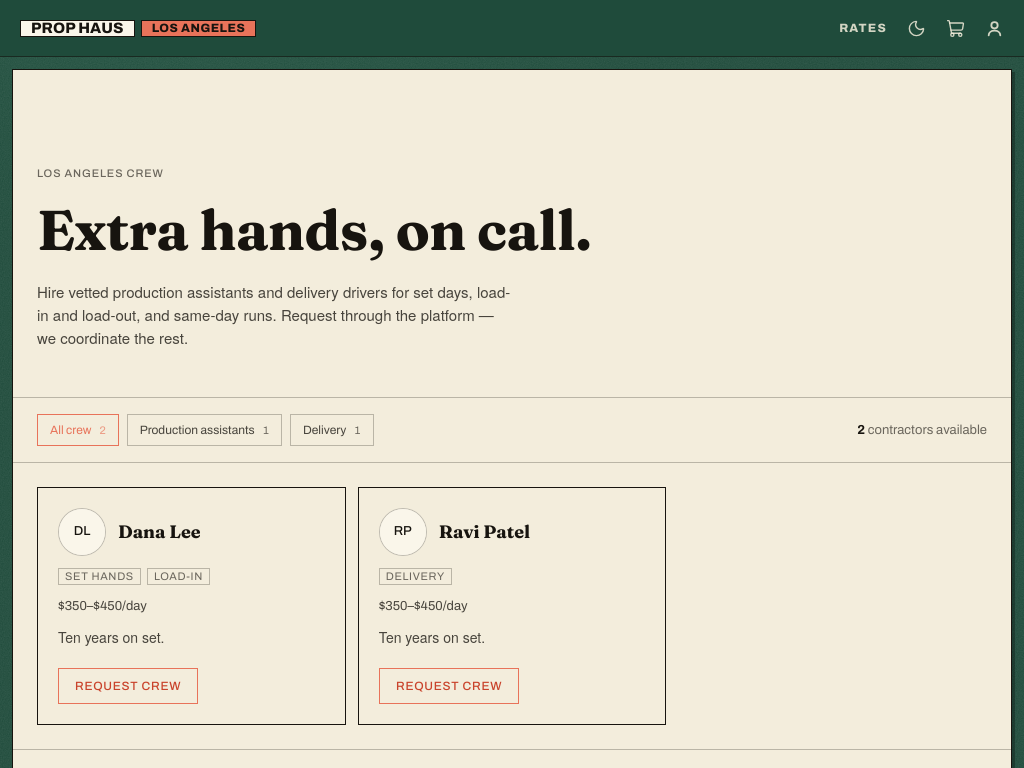
Test: CrewPage › offers the signed-in org’s projects in the request form
Expected: the text "Los Angeles crew" is shown, [37,167,164,179]
Click the button "Request crew" below "Set hands". click: (128,686)
box: [58,668,198,704]
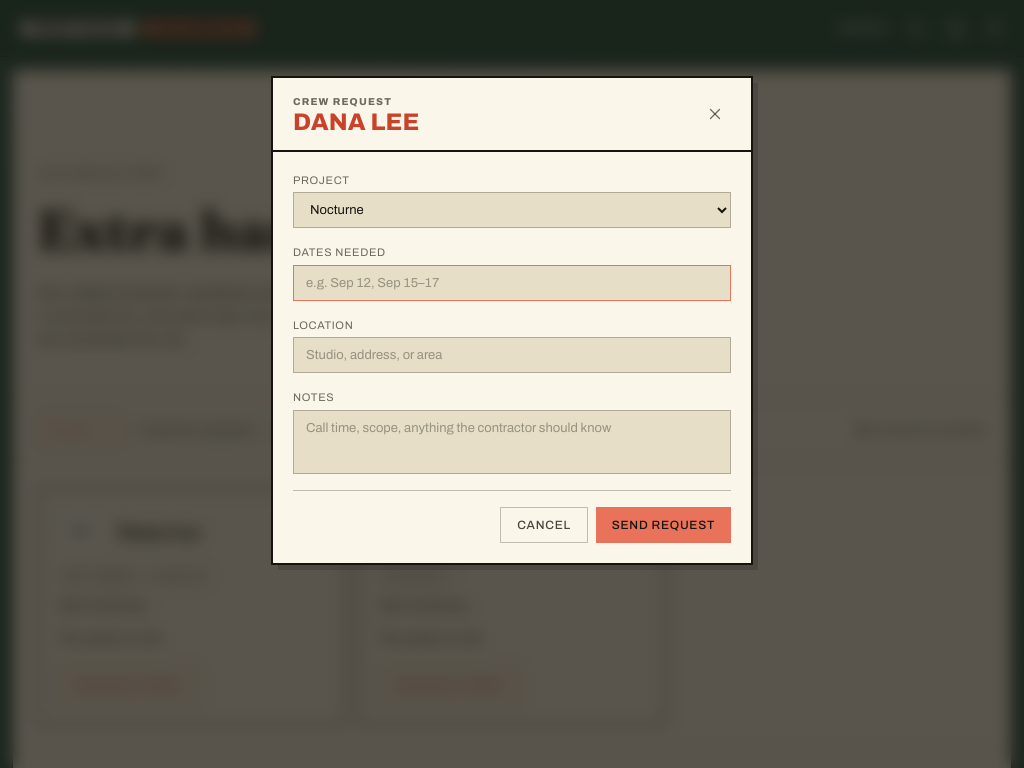
Expected: the dropdown labelled "Project" shows "Nocturne", [293,192,731,228]
